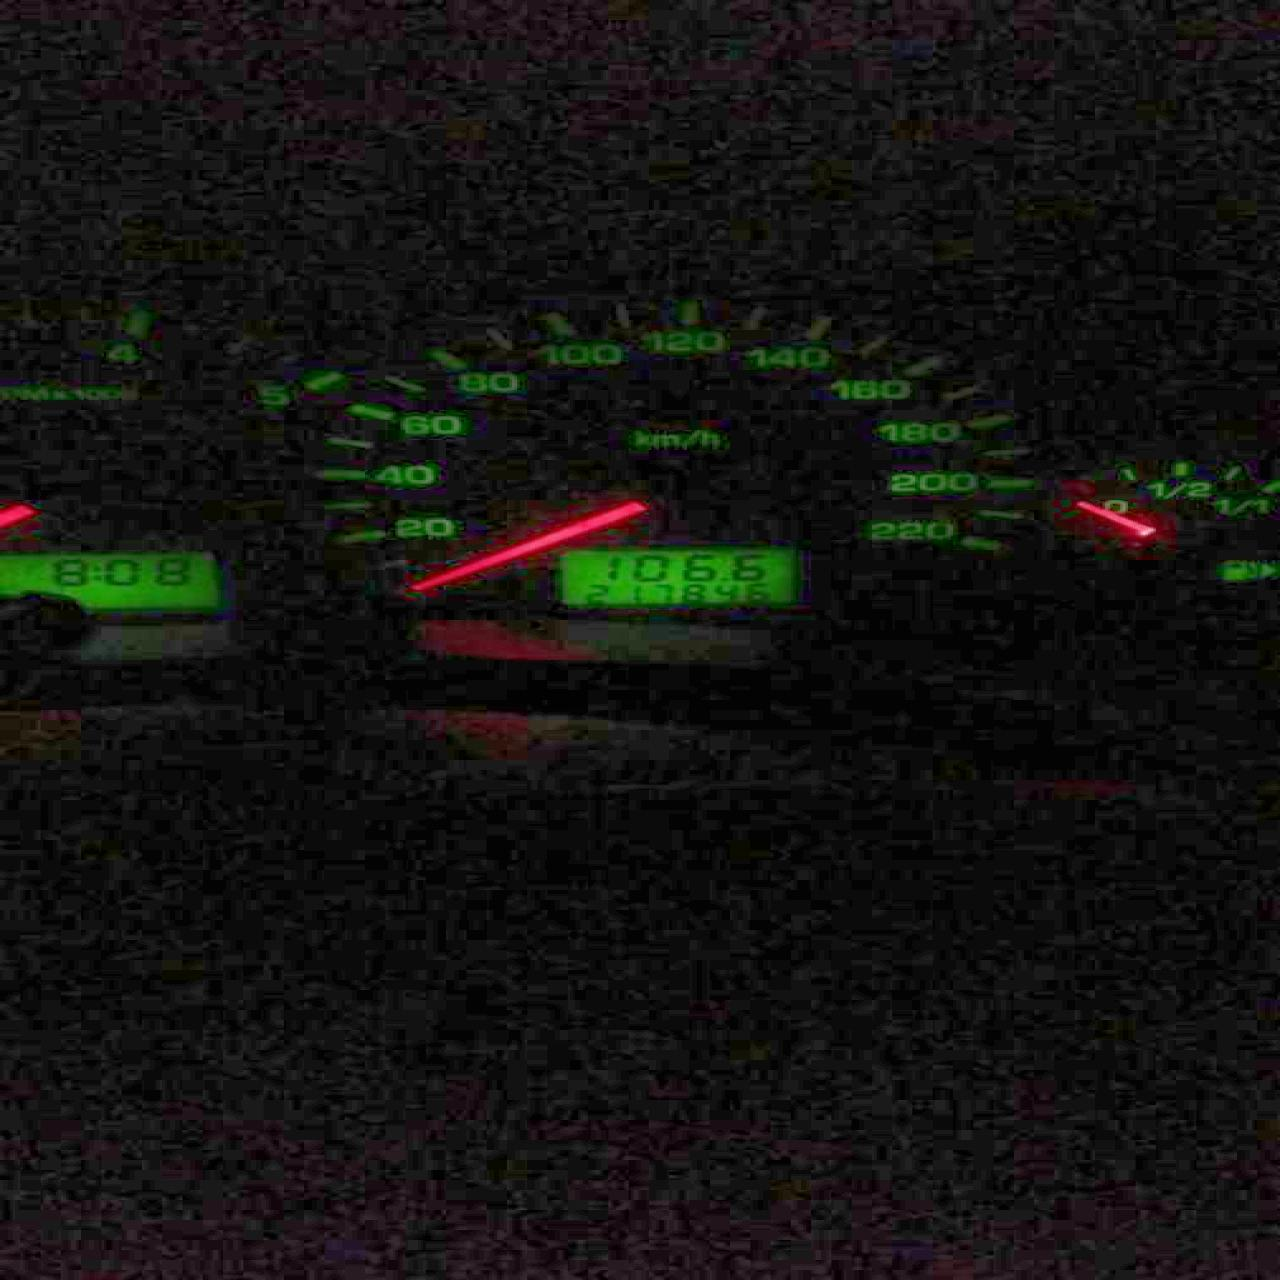-: (717, 576, 728, 581)
0: (628, 552, 667, 581)
1: (604, 554, 619, 579), (628, 583, 641, 602)
2: (583, 583, 608, 604)
4: (709, 583, 737, 600)
6: (679, 552, 715, 580), (730, 552, 763, 580), (743, 581, 768, 601)
7: (649, 581, 672, 602)
8: (679, 583, 702, 601)
odometer: (552, 545, 796, 607)
